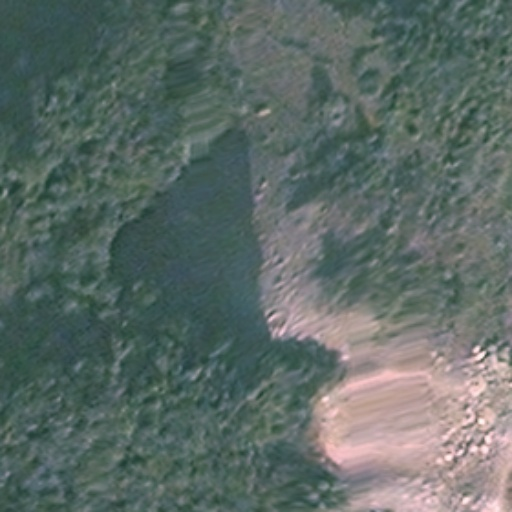landslide: (266, 245, 485, 510)
